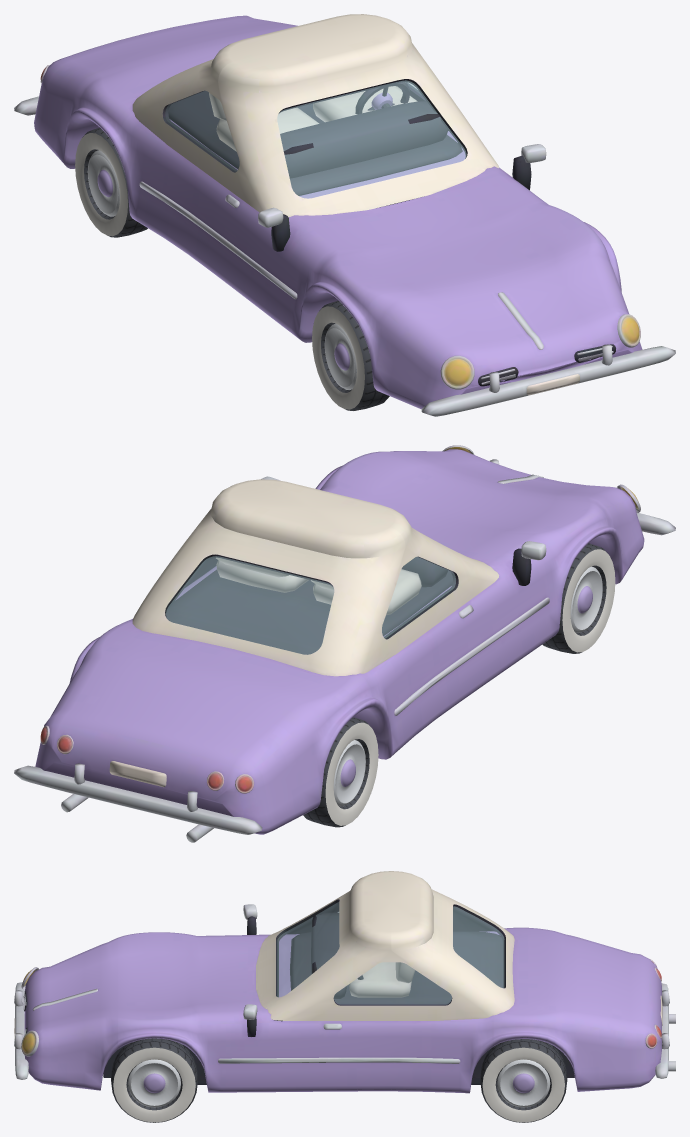
Rendered from coupe.glb.
3 renders of one model, top to bottom at view 1: azimuth 30°, elevation 25°; view 2: azimuth 150°, elevation 25°; view 3: azimuth 270°, elevation 25°, orthographic. The views are drawn at different scales.
Parts seen in each view (by area): view 1: coupe_body, coupe_windows, coupe_wheel_fr, coupe_wheel_rr; view 2: coupe_body, coupe_windows, coupe_wheel_rr, coupe_wheel_fr; view 3: coupe_body, coupe_windows, coupe_wheel_fl, coupe_wheel_rl.
Boxes of the visible parts, x1,y1,x2,y2 form: coupe_body: (14, 14, 675, 416); coupe_windows: (165, 80, 466, 198); coupe_wheel_fr: (312, 300, 389, 410); coupe_wheel_rr: (75, 127, 147, 237); coupe_body: (14, 445, 675, 842); coupe_windows: (166, 556, 455, 654); coupe_wheel_rr: (303, 717, 378, 827); coupe_wheel_fr: (542, 543, 615, 653); coupe_body: (14, 871, 675, 1093); coupe_windows: (277, 902, 504, 1004); coupe_wheel_fl: (111, 1038, 198, 1122); coupe_wheel_rl: (480, 1039, 567, 1122).
Size of the model in its own units: 1.81 by 1.37 by 4.7.
Materials: 4 (4 with a texture image).
